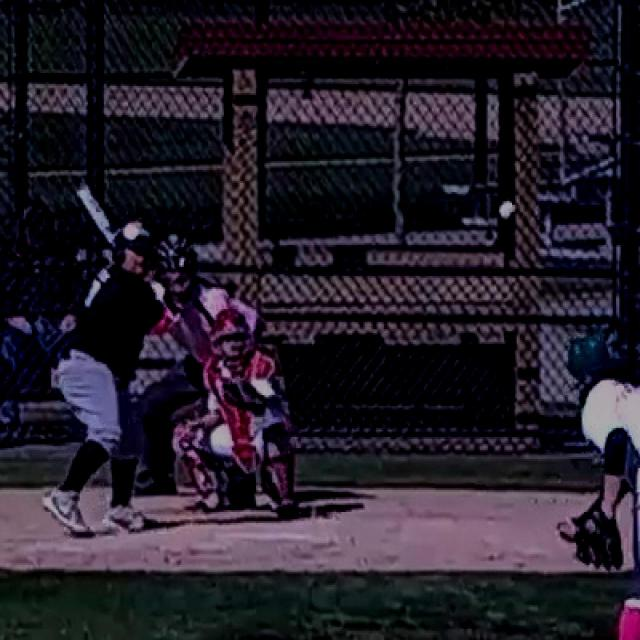baseball: (500, 201, 514, 219)
